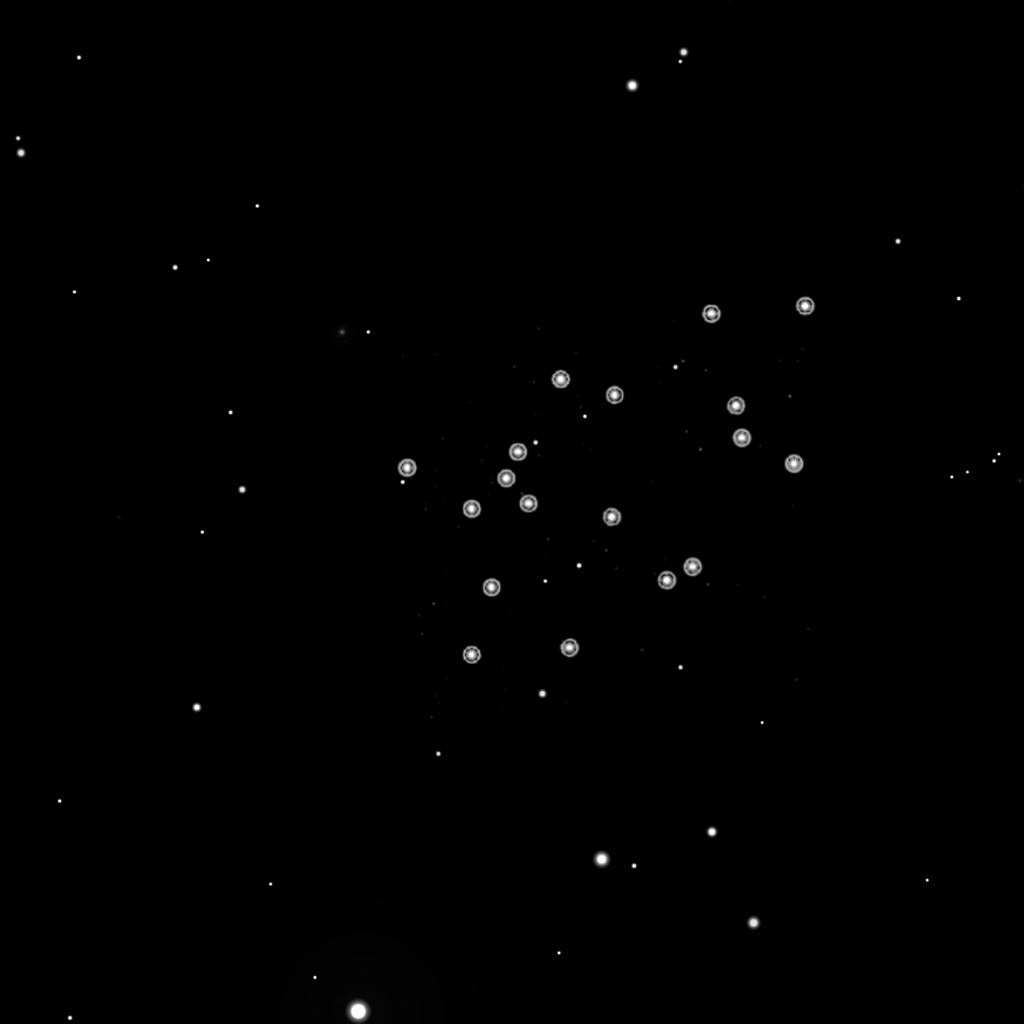canis_major: (454, 363, 625, 526)
